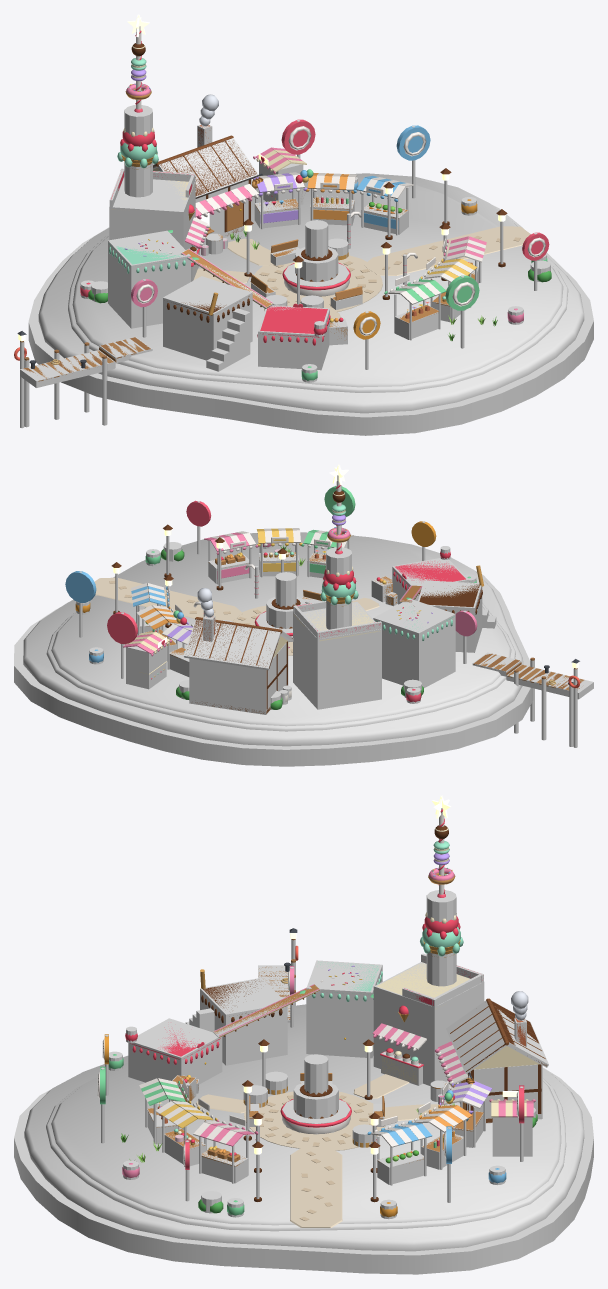
File: vila-doce.glb
3 renders of one model, top to bottom at view 1: azimuth 30°, elevation 25°; view 2: azimuth 150°, elevation 25°; view 3: azimuth 270°, elevation 25°, orthographic. The views are drawn at different scales.
Parts seen in each view (by area): view 1: col-terreno, enfeites, feira, construcoes, terreno, col-casinha-3, col-casinha-2, col-sorveteria-1, telhados, col-telhado-padaria-1, col-casinha-1, col-cais-deque-1 (+16 smaller); view 2: col-terreno, col-sorveteria-1, col-casinha-3, enfeites, feira, col-padaria-1, construcoes, col-telhado-padaria-2, telhados, terreno, col-casinha-2, col-barraca-do-jogo-1 (+13 smaller); view 3: col-terreno, terreno, construcoes, feira, col-casinha-3, col-sorveteria-1, col-casinha-2, col-casinha-1, enfeites, telhados, col-telhado-padaria-1, col-padaria-1 (+17 smaller).
Part boxes in pixels (x1,y1,x2,y2): col-terreno: (28,173,593,435); enfeites: (80,119,551,380); feira: (252,169,486,323); construcoes: (111,94,263,270); terreno: (193,226,530,319); col-casinha-3: (108,230,190,328); col-casinha-2: (163,276,252,360); col-sorveteria-1: (109,177,195,249); telhados: (108,230,347,345); col-telhado-padaria-1: (157,138,258,198); col-casinha-1: (258,305,329,370); col-cais-deque-1: (20,350,115,387); col-terreno: (14,532,533,766); col-sorveteria-1: (293,602,381,709); col-casinha-3: (373,598,455,687); enfeites: (65,486,477,709); feira: (131,528,353,661); col-padaria-1: (189,641,288,714); construcoes: (187,550,380,713); col-telhado-padaria-2: (183,619,280,670); telhados: (374,551,483,640); terreno: (94,577,379,655); col-casinha-2: (418,580,482,652); col-barraca-do-jogo-1: (126,643,166,689); col-terreno: (14,1004,593,1274); terreno: (196,1074,445,1227); construcoes: (372,893,547,1122); feira: (139,1078,492,1166); col-casinha-3: (306,960,382,1058); col-sorveteria-1: (373,962,484,1085); col-casinha-2: (200,977,287,1065); col-casinha-1: (128,1018,222,1084); enfeites: (97,966,537,1217); telhados: (125,961,382,1102); col-telhado-padaria-1: (446,1000,506,1073); col-padaria-1: (453,1064,542,1123).
Bounding box in the file's own units: 32.49 × 18 × 28.8.
